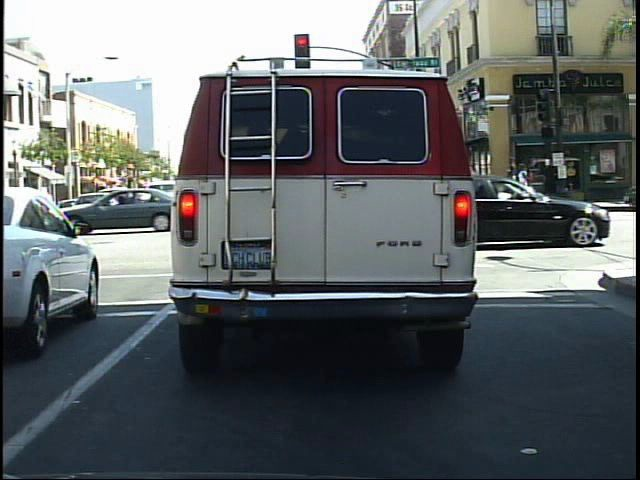person: (516, 157, 541, 214), (503, 153, 523, 211), (515, 161, 534, 213), (539, 154, 563, 195)
